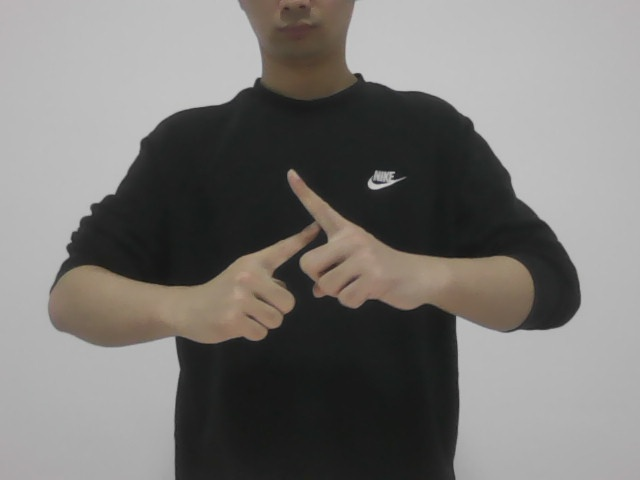peason: (200, 165, 416, 347)
